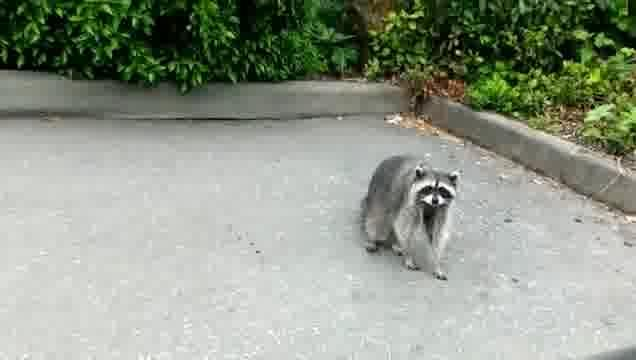raccoon: (353, 149, 473, 287)
